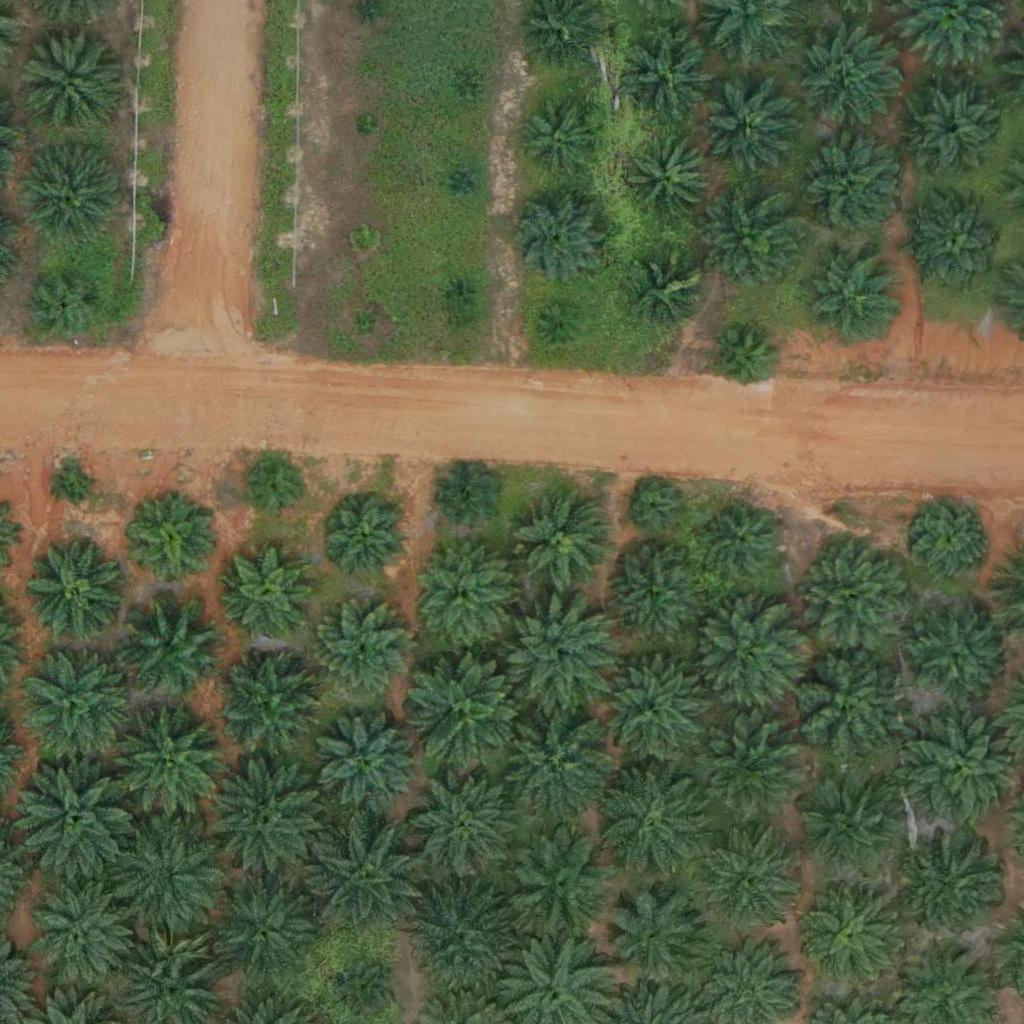Kelapa_Sawit: (10, 759, 135, 885), (103, 816, 228, 942), (199, 758, 324, 884), (304, 817, 429, 943), (405, 648, 530, 774), (401, 877, 526, 1003), (488, 697, 613, 823), (593, 759, 718, 885), (793, 532, 918, 658), (781, 643, 906, 769), (589, 651, 714, 776), (113, 707, 226, 821), (213, 648, 326, 762), (205, 875, 318, 988), (502, 597, 615, 710), (503, 829, 616, 942), (598, 885, 711, 998), (502, 182, 614, 295), (19, 642, 131, 755), (22, 878, 134, 991), (313, 709, 425, 822), (404, 766, 516, 879), (691, 600, 803, 713), (692, 712, 804, 825), (616, 24, 716, 125), (703, 191, 803, 292), (797, 136, 897, 237), (802, 246, 902, 347), (309, 602, 409, 703), (413, 543, 513, 644), (513, 491, 613, 592), (602, 545, 702, 646), (801, 779, 901, 880), (802, 880, 902, 981), (909, 835, 1009, 936), (797, 28, 897, 128), (908, 195, 1008, 295), (18, 31, 118, 131), (23, 145, 123, 245), (26, 537, 126, 637), (121, 595, 221, 695), (907, 604, 1007, 704), (520, 93, 608, 182), (905, 87, 993, 175), (626, 137, 714, 225), (224, 547, 312, 635), (323, 496, 411, 584), (704, 835, 792, 923), (706, 89, 793, 177), (130, 501, 217, 589), (29, 267, 104, 343), (914, 501, 989, 577), (633, 255, 708, 330), (705, 504, 780, 579), (712, 328, 775, 391), (435, 466, 498, 529), (245, 459, 307, 522), (630, 483, 680, 533), (542, 304, 580, 342), (57, 467, 94, 505), (452, 80, 477, 105), (354, 115, 379, 140), (350, 227, 375, 252), (353, 311, 378, 336), (453, 169, 478, 194), (446, 279, 471, 304)
